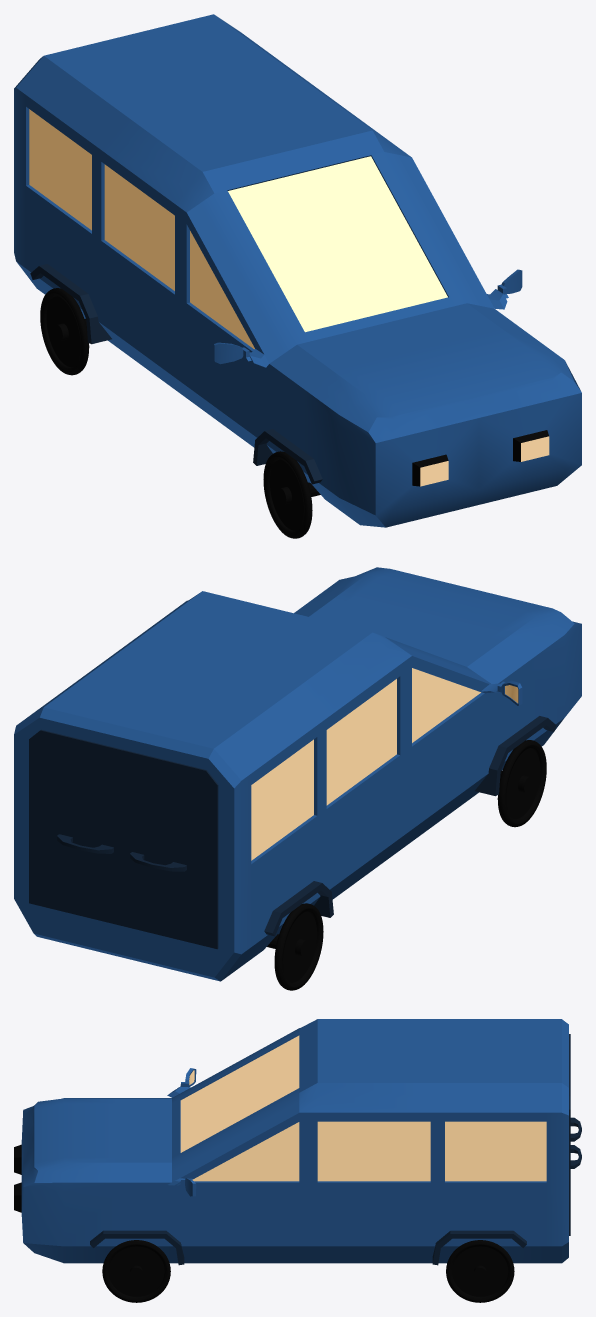
The model's file is car.glb.
The picture shows the model from 3 angles, top to bottom: view 1: azimuth 30°, elevation 25°; view 2: azimuth 150°, elevation 25°; view 3: azimuth 270°, elevation 25°; orthographic projection. The views are drawn at different scales.
Visible parts, largest first — view 1: Car; view 2: Car; view 3: Car.
Boxes of the visible parts, x1,y1,x2,y2 form: Car: [14, 14, 581, 538]; Car: [14, 567, 581, 990]; Car: [14, 1019, 581, 1302].
Size of the model in its own units: 3.4 by 2.85 by 7.06.
